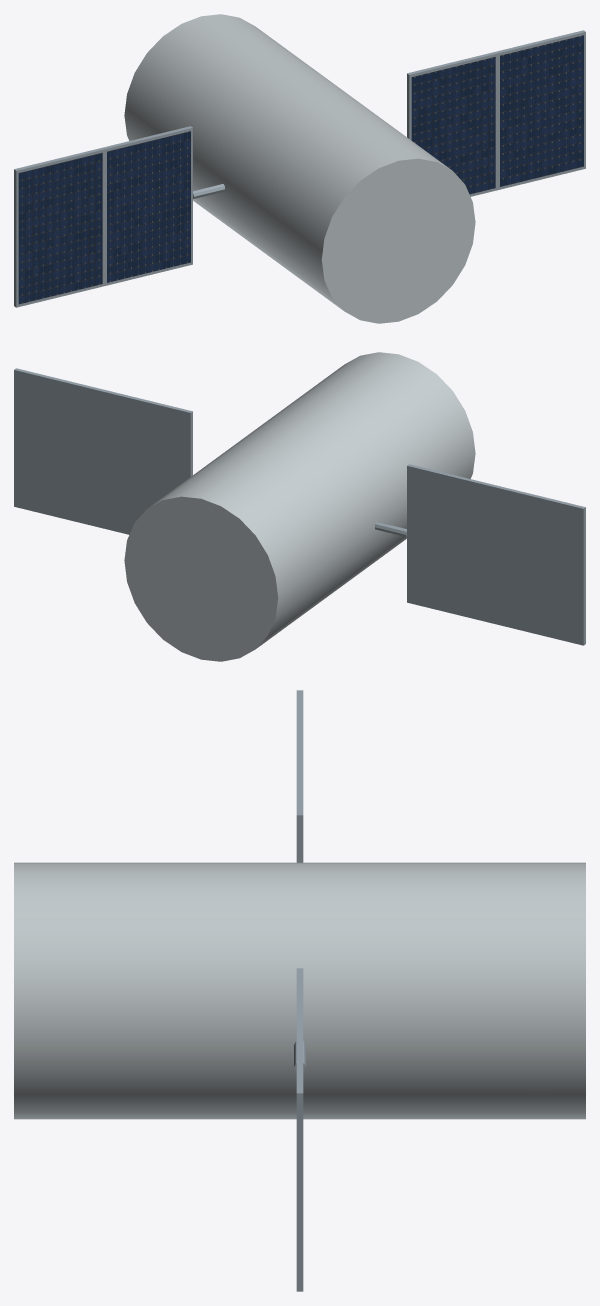
The model's file is ref-bars-40420.glb.
3 views of the same model, one above another, from view 1: azimuth 30°, elevation 25°; view 2: azimuth 150°, elevation 25°; view 3: azimuth 270°, elevation 25° (orthographic). The views are drawn at different scales.
Parts seen in each view (by area): view 1: Spacecraft body, Photovoltaic laminates (×4), Array frame (×4); view 2: Spacecraft body, Array frame (×4); view 3: Spacecraft body, Array frame (×2).
Boxes of the visible parts, x1,y1,x2,y2 form: Spacecraft body: (124, 14, 475, 323); Photovoltaic laminates (×4): (18, 35, 583, 304); Array frame (×4): (14, 30, 585, 307); Spacecraft body: (124, 352, 475, 661); Array frame (×4): (14, 368, 585, 645); Spacecraft body: (14, 862, 585, 1119); Array frame (×2): (296, 753, 303, 1291).
Bounding box in the file's own units: 10 × 2.7 × 6.
Materials: 3 (1 with a texture image).
